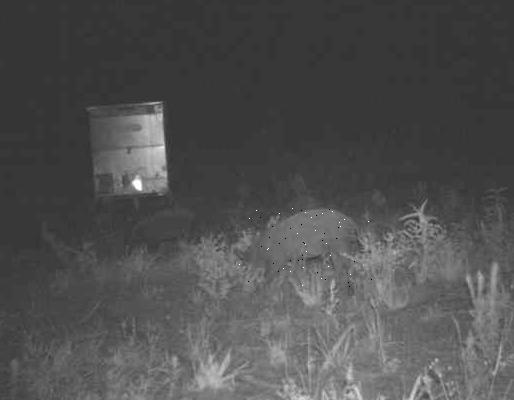Hog: (236, 209, 372, 288)
